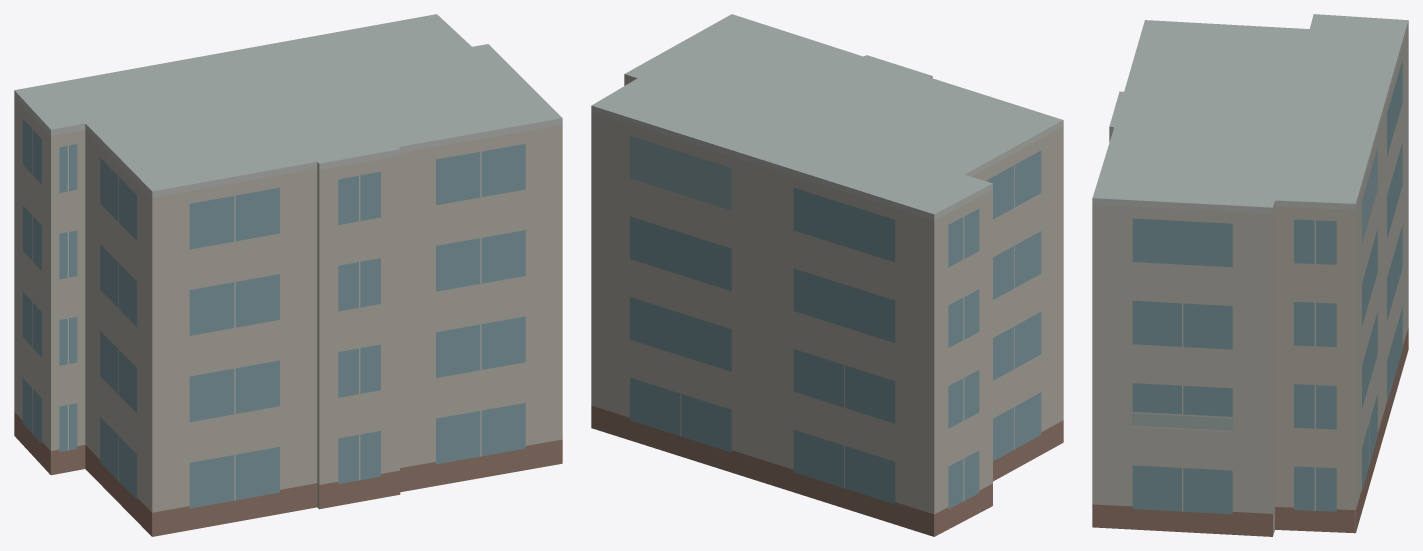
File: survey-upis-32674792.glb
The picture shows the model from 3 angles, left to right: view 1: azimuth 30°, elevation 25°; view 2: azimuth 150°, elevation 25°; view 3: azimuth 270°, elevation 25°; orthographic projection. The views are drawn at different scales.
Visible parts, largest first — view 1: survey-upis-32674792.tmp; view 2: survey-upis-32674792.tmp; view 3: survey-upis-32674792.tmp.
Part boxes in pixels (x1,y1,x2,y2): survey-upis-32674792.tmp: (14,14,562,536); survey-upis-32674792.tmp: (591,14,1063,536); survey-upis-32674792.tmp: (1092,14,1408,536).
Bounding box in the file's own units: 16.4 × 13 × 11.32.
